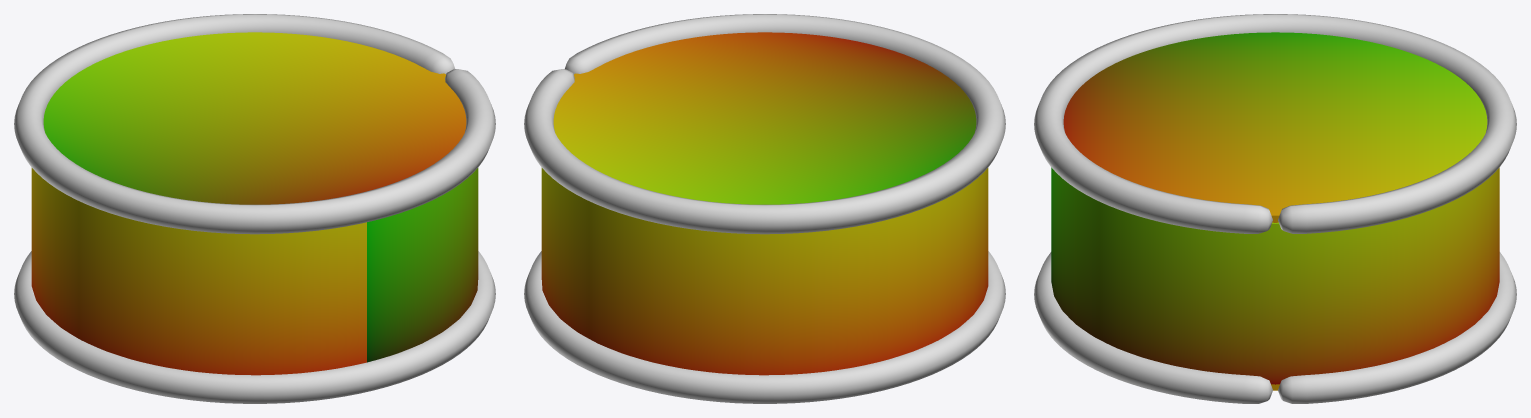
Rendered from can_tuna.glb.
3 renders of one model, left to right at view 1: azimuth 30°, elevation 25°; view 2: azimuth 150°, elevation 25°; view 3: azimuth 270°, elevation 25°, orthographic.
Parts seen in each view (by area): view 1: can_tuna; view 2: can_tuna; view 3: can_tuna.
Part boxes in pixels (x1,y1,x2,y2): can_tuna: (14, 14, 495, 403); can_tuna: (524, 14, 1005, 403); can_tuna: (1034, 14, 1516, 403).
Bounding box in the file's own units: 0.0924 × 0.0419 × 0.0926.
